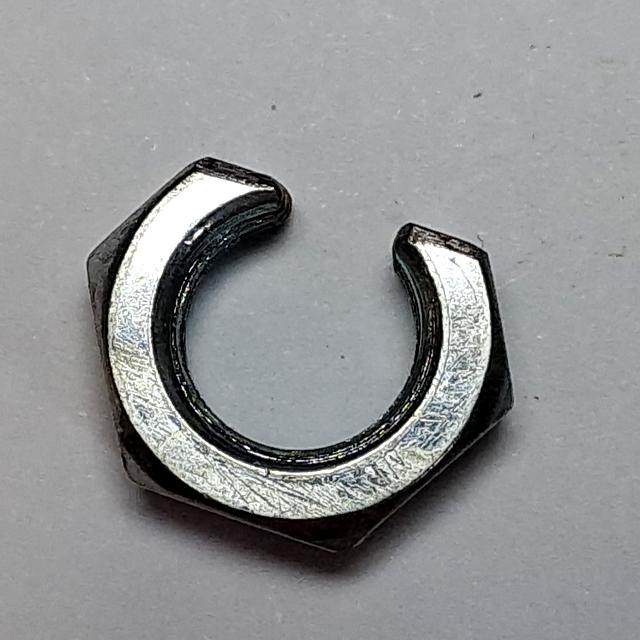Fracture: (75, 141, 532, 572)
